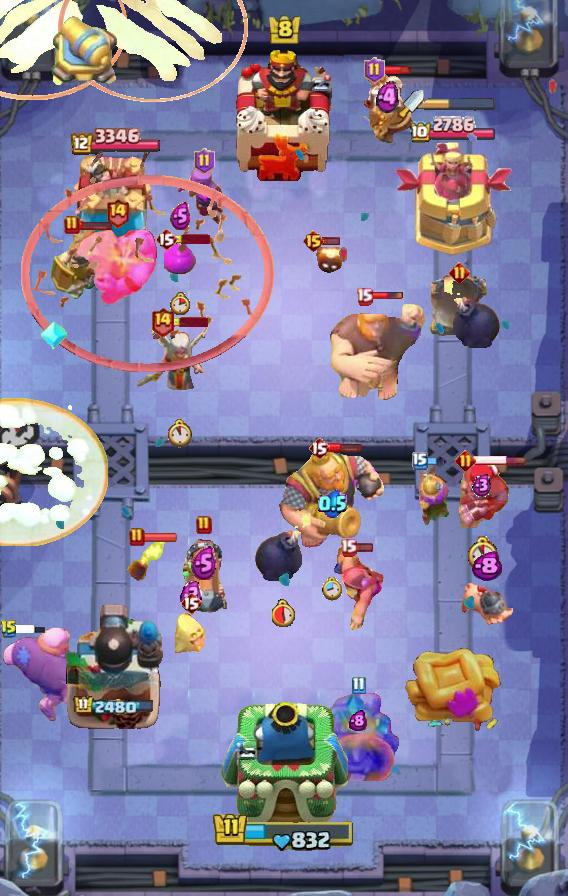archer-queen: (73, 227, 161, 307)
baby-dragon: (441, 277, 501, 349), (254, 510, 314, 582)
balloon: (0, 625, 102, 725), (327, 301, 425, 403)
bar: (395, 142, 514, 256)
bat-evolution: (173, 613, 209, 655)
battle-healer: (179, 537, 229, 625)
bomb-tower: (413, 459, 453, 527)
bomber: (125, 535, 169, 581), (316, 246, 344, 276)
cannoneer-tower: (313, 691, 403, 781)
clock: (212, 811, 356, 853)
earthquake: (51, 229, 109, 299)
electro-spirit: (471, 550, 501, 581), (191, 546, 217, 580), (318, 490, 346, 518), (377, 82, 400, 114), (180, 579, 202, 611), (169, 202, 190, 230), (472, 473, 492, 497), (349, 709, 367, 730)
elixir: (465, 536, 500, 573), (166, 420, 193, 448), (272, 599, 296, 627), (322, 577, 342, 601), (170, 293, 190, 316)
elixir-collector: (359, 72, 415, 146)
emote: (473, 455, 527, 466), (328, 442, 364, 454), (11, 623, 47, 635), (78, 220, 114, 231), (142, 532, 178, 543), (174, 234, 210, 244), (172, 317, 208, 327), (370, 291, 404, 301), (382, 65, 414, 75), (427, 456, 446, 468), (354, 542, 374, 553), (322, 236, 342, 246)
executioner: (459, 581, 513, 627)
fireball: (329, 547, 389, 635)
giant-skeleton: (275, 448, 389, 552)
ice-wizard: (58, 0, 248, 102), (0, 0, 128, 100)
king-tower: (220, 702, 348, 827), (232, 45, 336, 181)
king-tower-bar: (424, 97, 496, 111)
miner: (164, 244, 196, 274)
musketeer: (427, 273, 491, 339)
pad_2: (39, 320, 69, 350)
phoenix-big: (0, 398, 108, 546)
phoenix-small: (453, 464, 511, 528)
poison: (135, 323, 223, 401)
queen-tower: (68, 156, 160, 256)
rascal-girl: (177, 164, 231, 226)
royal-recruit: (49, 15, 123, 91)
selected: (68, 127, 160, 156), (409, 115, 497, 144), (73, 695, 155, 717)
skeleton-barrel: (21, 151, 274, 374)
text: (105, 196, 130, 227), (149, 307, 174, 337), (193, 148, 215, 174), (303, 229, 326, 253), (364, 57, 385, 83), (155, 227, 177, 251), (308, 436, 330, 460), (180, 591, 202, 615), (456, 449, 477, 471), (449, 261, 470, 282), (0, 619, 18, 639), (355, 287, 373, 305), (339, 539, 357, 557), (64, 215, 80, 235), (196, 515, 212, 535), (129, 527, 145, 547), (412, 452, 428, 470), (351, 677, 366, 695)
tower-bar: (64, 601, 164, 731)
